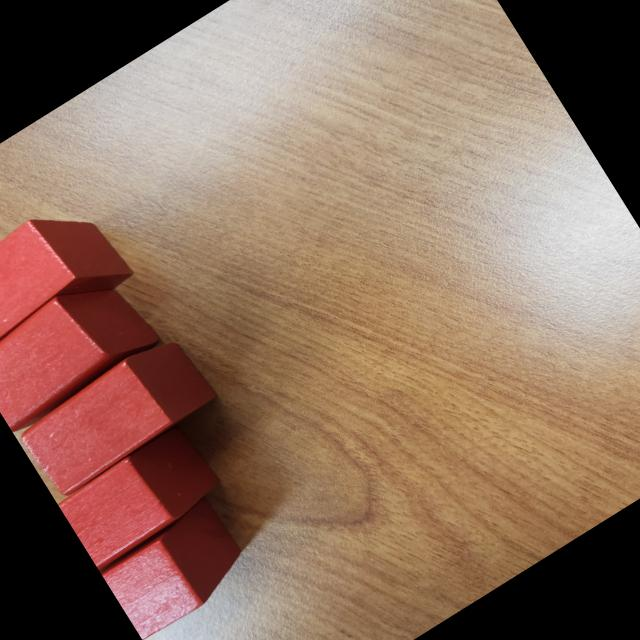red: (12, 326, 222, 500), (0, 258, 166, 434), (56, 420, 228, 570), (0, 185, 136, 373), (99, 501, 253, 640)
